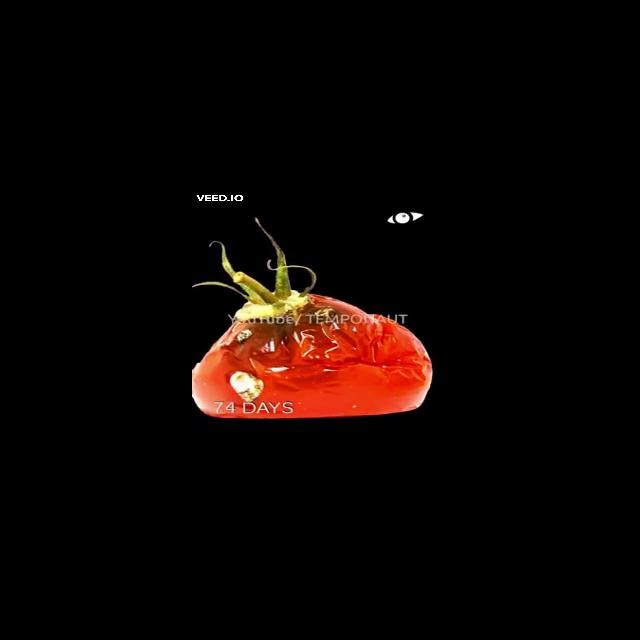tomato: (192, 255, 433, 423)
